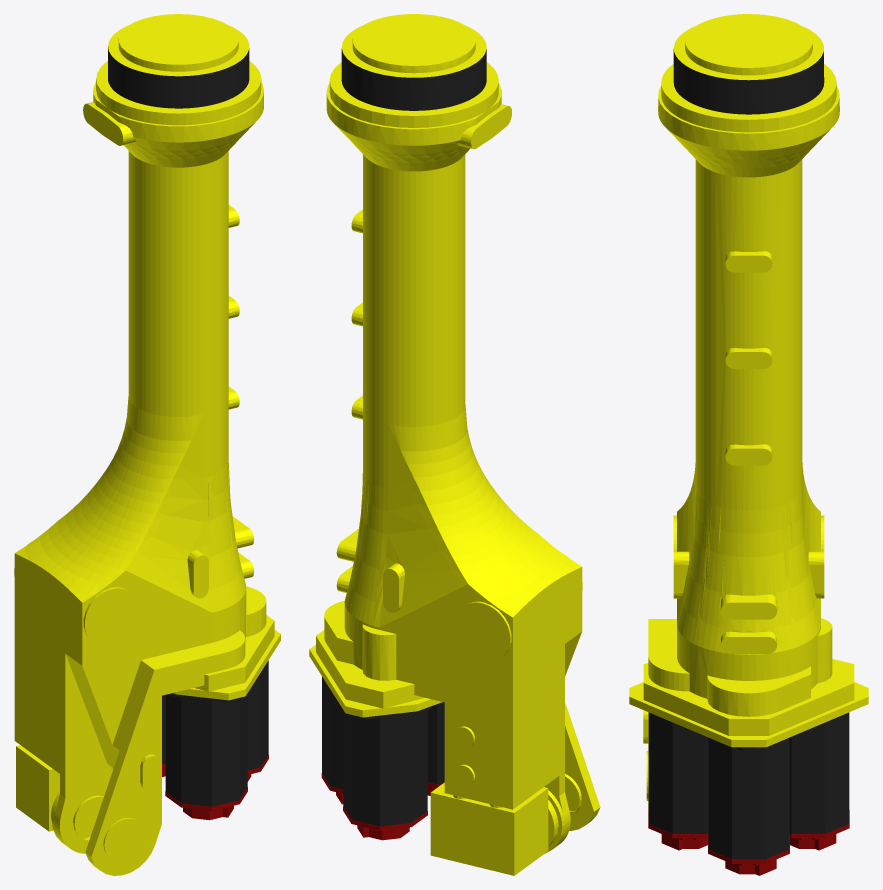
The picture shows the model from 3 angles, left to right: view 1: azimuth 30°, elevation 25°; view 2: azimuth 150°, elevation 25°; view 3: azimuth 270°, elevation 25°; orthographic projection. The views are drawn at different scales.
Visible parts, largest first — view 1: node; view 2: node; view 3: node.
Boxes of the visible parts, x1,y1,x2,y2 form: node: (14,14,280,875); node: (309,14,600,875); node: (629,14,868,875).
Size of the model in its own units: 450 by 1453 by 382.
